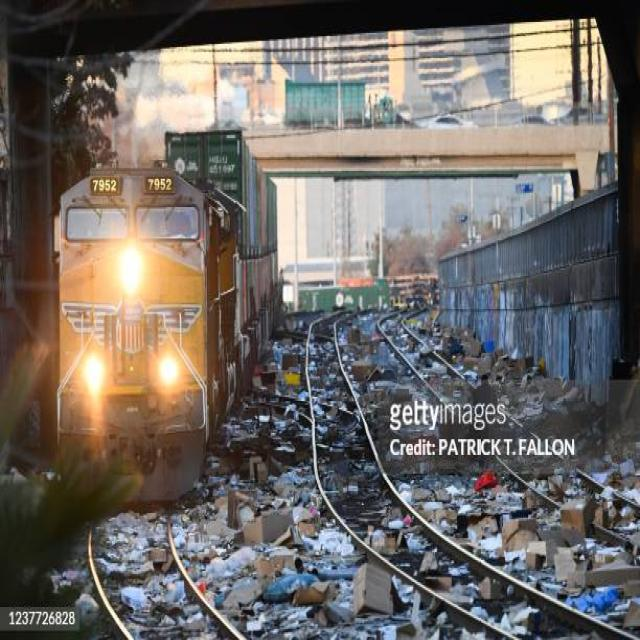trash: (252, 336, 623, 596)
